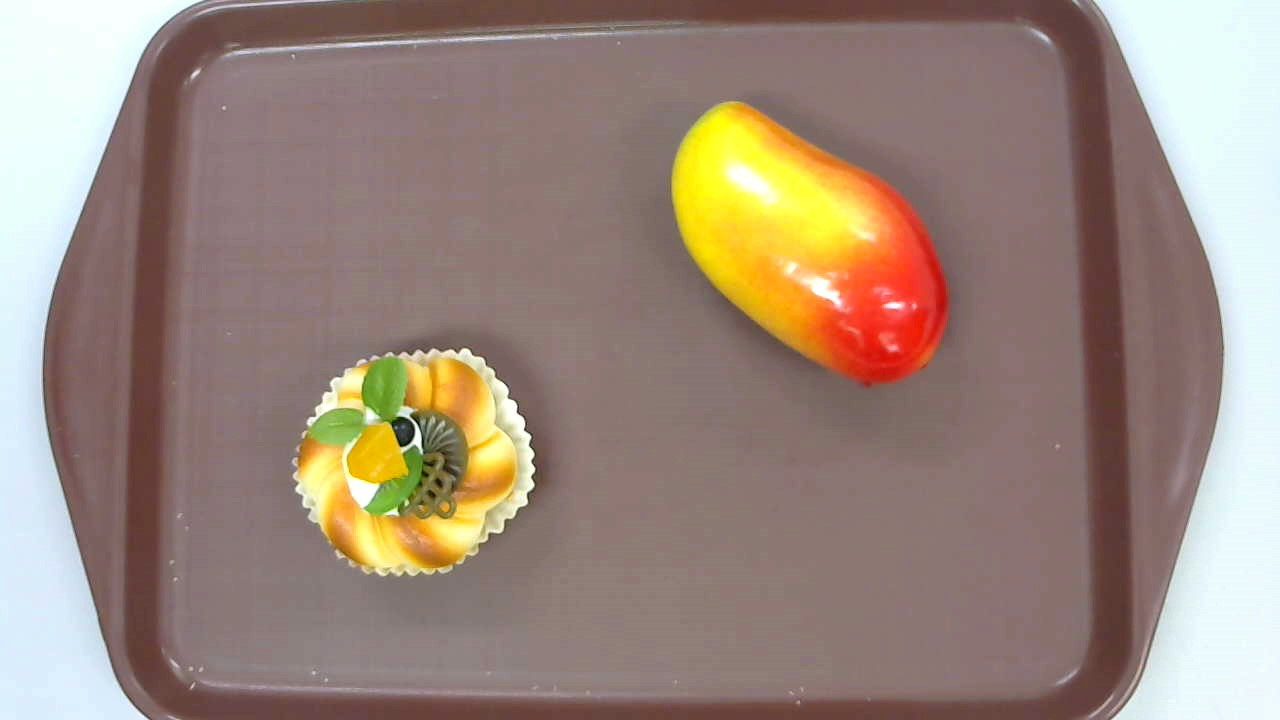fruit tart: (292, 347, 535, 578)
red mango: (672, 99, 951, 388)
